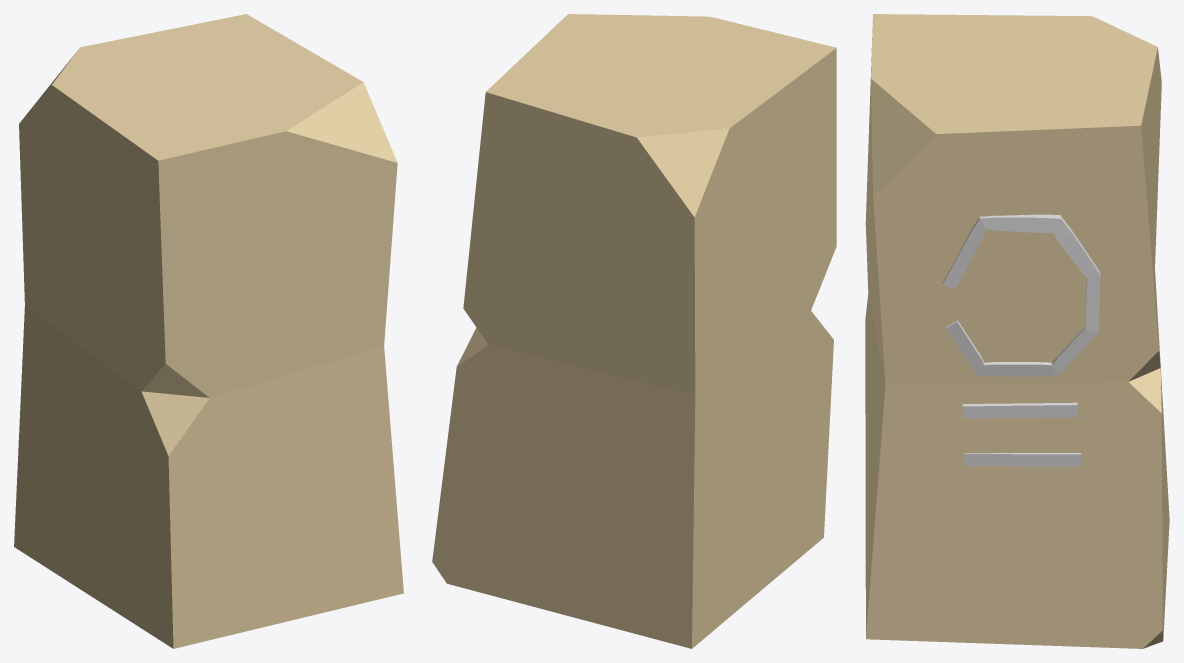
Rendered from pillarRune.fbx.
3 views of the same model, side by side, from view 1: azimuth 30°, elevation 25°; view 2: azimuth 150°, elevation 25°; view 3: azimuth 270°, elevation 25° (orthographic). The views are drawn at different scales.
Parts seen in each view (by area): view 1: LittleStone; view 2: LittleStone; view 3: LittleStone, Glyph.
Boxes of the visible parts, box(x1,y1,x2,y2) form: LittleStone: box(14, 14, 403, 648); LittleStone: box(432, 14, 836, 648); LittleStone: box(865, 14, 1169, 648); Glyph: box(943, 214, 1100, 466).
Bounding box in the file's own units: 0.7141 × 1.28 × 0.6977.
